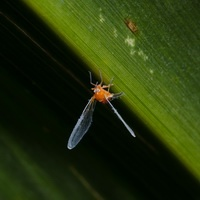insect: (67, 71, 135, 149)
